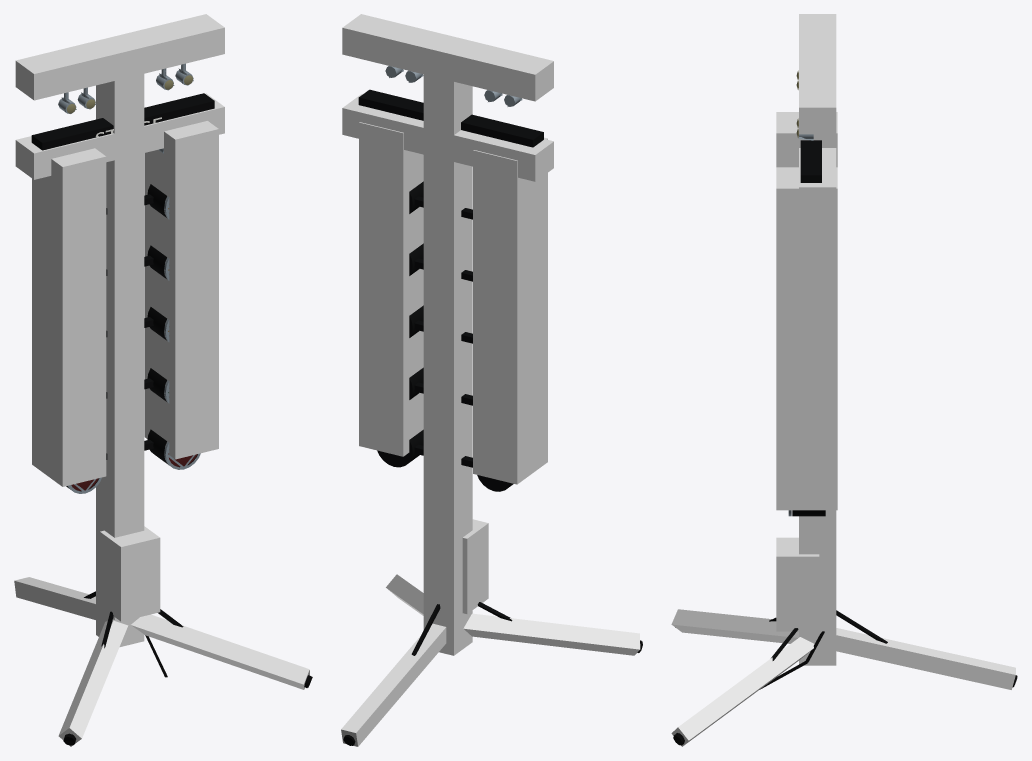
The model's file is npk_portable_tree.dae.
3 renders of one model, left to right at view 1: azimuth 30°, elevation 25°; view 2: azimuth 150°, elevation 25°; view 3: azimuth 270°, elevation 25°, orthographic.
Parts seen in each view (by area): view 1: Colmesh_npk_portable_tree-1, npk_portable_tree_a300, npk_portable_tree_a100; view 2: Colmesh_npk_portable_tree-1, npk_portable_tree_a300; view 3: Colmesh_npk_portable_tree-1, npk_portable_tree_a300.
Part boxes in pixels (x1,y1,x2,y2): Colmesh_npk_portable_tree-1: [14, 14, 309, 746]; npk_portable_tree_a300: [31, 63, 312, 745]; npk_portable_tree_a100: [61, 64, 312, 745]; Colmesh_npk_portable_tree-1: [341, 14, 640, 746]; npk_portable_tree_a300: [343, 66, 642, 745]; Colmesh_npk_portable_tree-1: [671, 14, 1015, 746]; npk_portable_tree_a300: [673, 70, 1017, 745].
Size of the model in its own units: 1.1 by 1.3 by 2.6.
